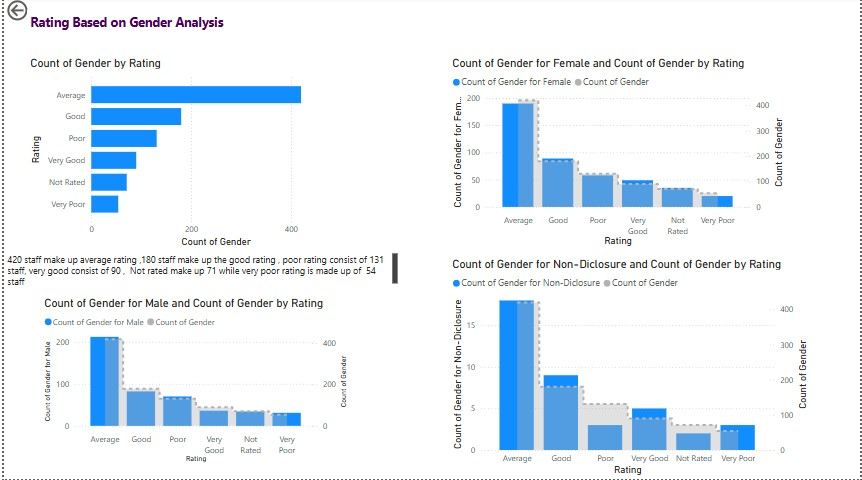

The page's visual inventory and layout, read from the dashboard file:
{"tool":"powerbi","page":{"name":"Page 2","canvas":[1280,720],"ordinal":1},"visuals":[{"type":"barChart","fields":{"Y":["CountNonNull(Palmoria Group emp-data2 (2).Gender)"],"Category":["Palmoria Group emp-data2 (2).Rating"]},"box":[34.4,88.1,484,289.8],"z":0},{"type":"textbox","box":[0,377.9,593,58.3],"z":1000},{"type":"actionButton","box":[0,0,100,40],"z":2000},{"type":"lineClusteredColumnComboChart","fields":{"Category":["Palmoria Group emp-data2 (2).Rating"],"Y2":["CountNonNull(Palmoria Group emp-data2 (2).Gender)"],"Y":["FilteredEval(CountNonNull(Palmoria Group emp-data2 (2).Gender), [{Condition(expr)}])"]},"box":[55.3,446.6,463.1,253.9],"z":3000},{"type":"lineClusteredColumnComboChart","fields":{"Category":["Palmoria Group emp-data2 (2).Rating"],"Y2":["CountNonNull(Palmoria Group emp-data2 (2).Gender)"],"Y":["FilteredEval(CountNonNull(Palmoria Group emp-data2 (2).Gender), [{Condition(expr)}])"]},"box":[664.7,88.1,504.9,289.8],"z":4000},{"type":"lineClusteredColumnComboChart","fields":{"Category":["Palmoria Group emp-data2 (2).Rating"],"Y2":["CountNonNull(Palmoria Group emp-data2 (2).Gender)"],"Y":["FilteredEval(CountNonNull(Palmoria Group emp-data2 (2).Gender), [{Condition(expr)}])"]},"box":[664.7,388.4,540.7,331.6],"z":5000},{"type":"textbox","box":[34.4,19.4,376.4,47.8],"z":6000}]}

Visuals, with their boxes in screenshot pixels (x1, y1, x2, y2), scaled from the page's 1280x720 canvas onto the 862x480 screenshot:
barChart - CountNonNull(Palmoria Group emp-data2 (2).Gender) x Palmoria Group emp-data2 (2).Rating: [x1=23, y1=59, x2=349, y2=252]
textbox: [x1=0, y1=252, x2=399, y2=291]
actionButton: [x1=0, y1=0, x2=67, y2=27]
lineClusteredColumnComboChart - Palmoria Group emp-data2 (2).Rating x CountNonNull(Palmoria Group emp-data2 (2).Gender): [x1=37, y1=298, x2=349, y2=467]
lineClusteredColumnComboChart - Palmoria Group emp-data2 (2).Rating x CountNonNull(Palmoria Group emp-data2 (2).Gender): [x1=448, y1=59, x2=788, y2=252]
lineClusteredColumnComboChart - Palmoria Group emp-data2 (2).Rating x CountNonNull(Palmoria Group emp-data2 (2).Gender): [x1=448, y1=259, x2=812, y2=479]
textbox: [x1=23, y1=13, x2=277, y2=45]
